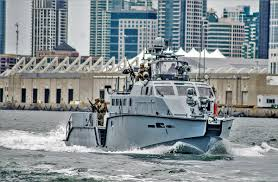boat: (64, 37, 235, 153)
